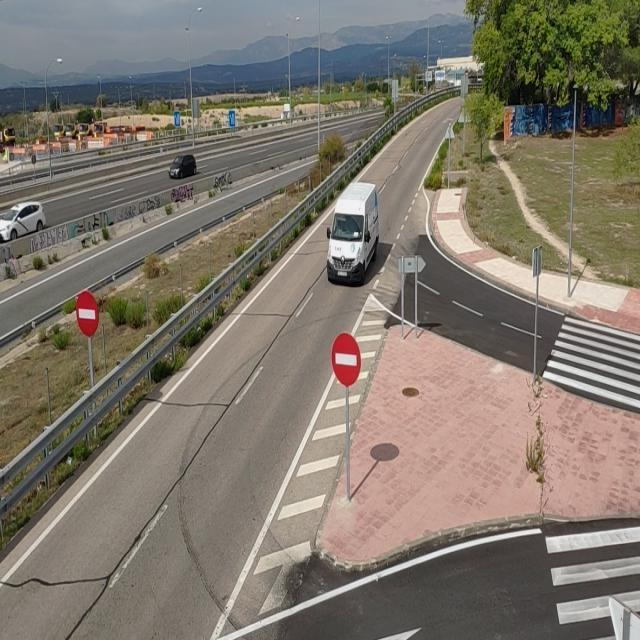Car: (0, 201, 48, 244), (167, 154, 197, 179)
Van: (324, 182, 380, 287)
